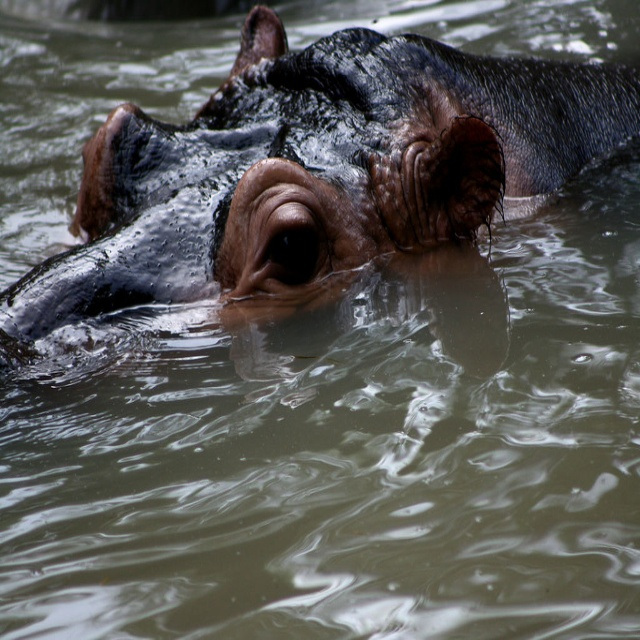Hippopotamus: (0, 7, 640, 378)
